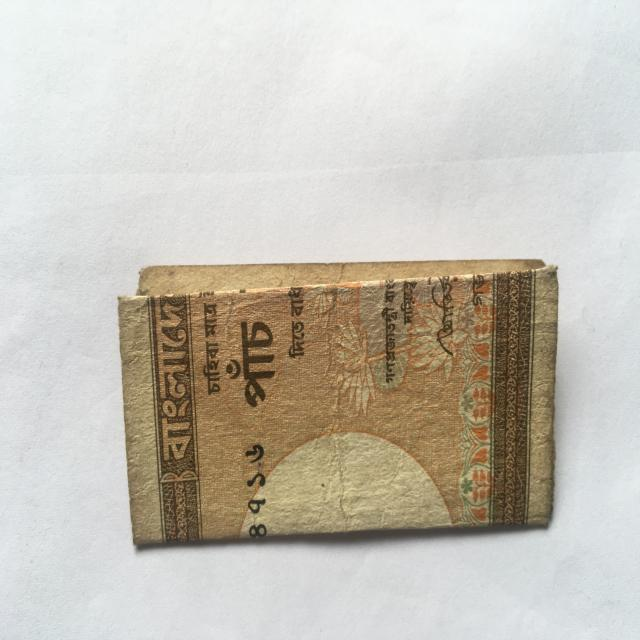Taka: (118, 265, 560, 548)
